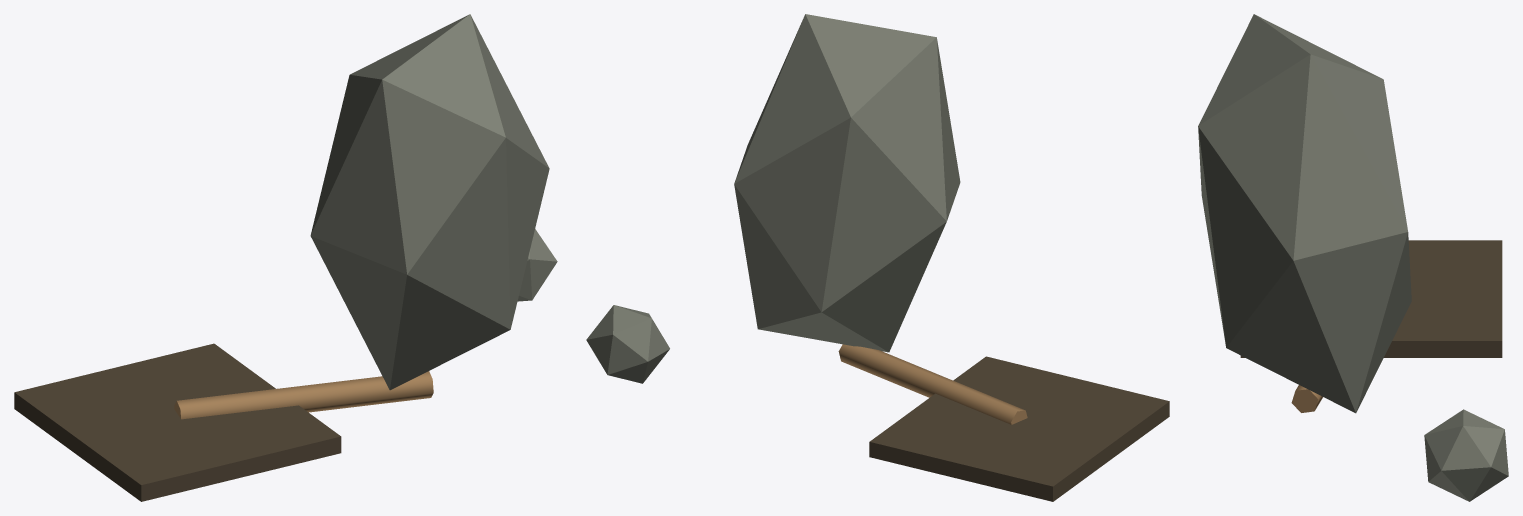
Rendered from moved-marker.glb.
The picture shows the model from 3 angles, left to right: view 1: azimuth 30°, elevation 25°; view 2: azimuth 150°, elevation 25°; view 3: azimuth 270°, elevation 25°; orthographic projection. The views are drawn at different scales.
Visible parts, largest first — view 1: moved-marker; view 2: moved-marker; view 3: moved-marker.
Boxes of the visible parts, <box> form: moved-marker: <box>14,14,557,501</box>; moved-marker: <box>586,14,1169,501</box>; moved-marker: <box>1198,14,1508,501</box>.
Bounding box in the file's own units: 1.28 × 0.8951 × 0.6538.
